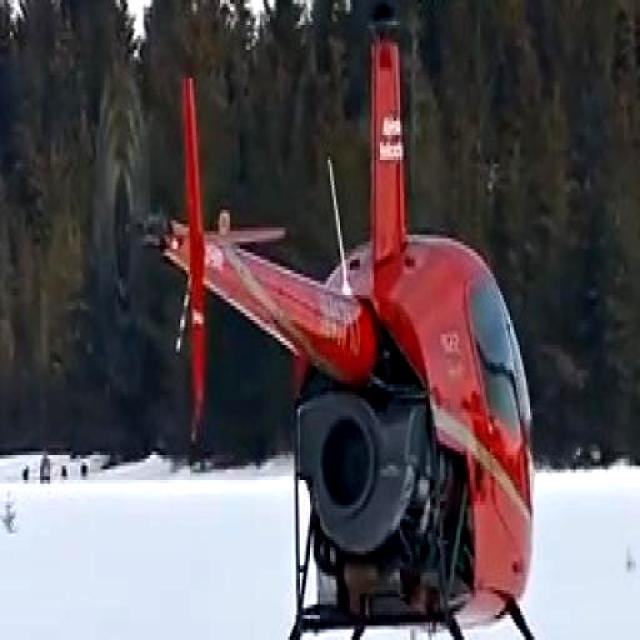drone: (84, 0, 636, 640)
